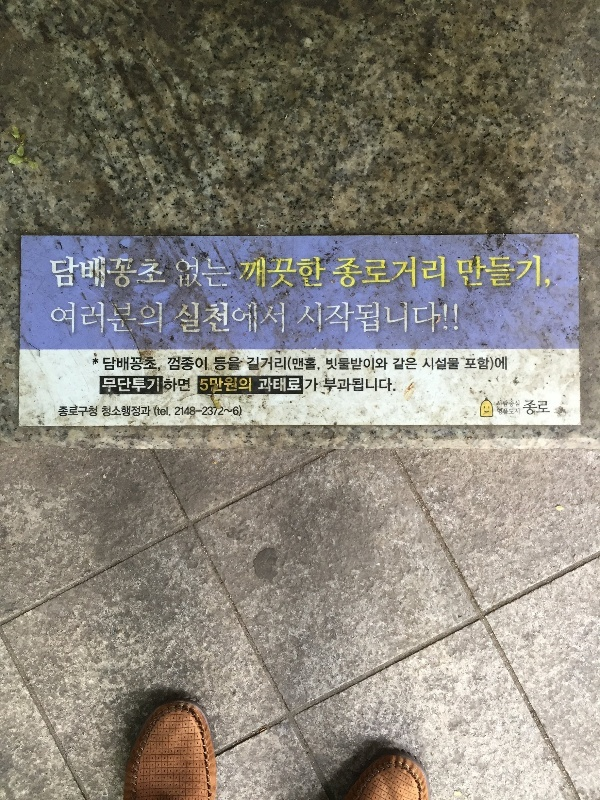text: (65, 299, 80, 337), (81, 299, 96, 337), (97, 299, 112, 337), (113, 299, 128, 337), (129, 299, 144, 337), (145, 299, 160, 337), (465, 254, 480, 291), (481, 254, 496, 291), (497, 254, 512, 291), (513, 254, 528, 291), (529, 254, 544, 291), (193, 299, 208, 336), (209, 299, 224, 336), (225, 299, 240, 336), (241, 299, 256, 336), (257, 299, 272, 336), (177, 254, 192, 290), (193, 254, 208, 290), (209, 254, 224, 290), (241, 254, 256, 290), (257, 254, 272, 290), (273, 254, 288, 290), (289, 254, 304, 290), (305, 254, 320, 290), (337, 254, 352, 290), (353, 254, 368, 290), (369, 254, 384, 290), (385, 254, 400, 290), (401, 254, 416, 290), (417, 254, 432, 290), (49, 255, 64, 290), (65, 255, 80, 290), (81, 255, 96, 290), (97, 255, 112, 290), (113, 255, 128, 290), (129, 255, 144, 290), (145, 255, 160, 290), (305, 301, 320, 336), (321, 301, 336, 336), (337, 301, 352, 336), (353, 301, 368, 336), (369, 301, 384, 336), (385, 301, 400, 336), (401, 301, 416, 336), (417, 301, 432, 336), (433, 301, 448, 336), (51, 299, 64, 337), (433, 254, 446, 290), (273, 299, 285, 336), (182, 299, 192, 336), (449, 301, 459, 336), (456, 254, 464, 291), (225, 254, 233, 290), (337, 377, 352, 394), (353, 377, 368, 394), (369, 377, 384, 394), (145, 357, 161, 372), (113, 378, 128, 394), (129, 378, 144, 394), (145, 378, 160, 394), (209, 377, 224, 393), (225, 377, 240, 393), (273, 377, 288, 393), (529, 400, 544, 416), (97, 357, 112, 372), (113, 357, 128, 372), (129, 357, 144, 372), (177, 357, 192, 372), (257, 356, 272, 371), (289, 357, 304, 372), (305, 357, 320, 372), (305, 378, 320, 393), (225, 357, 241, 371), (466, 356, 480, 372), (545, 254, 551, 291), (323, 377, 336, 394), (321, 254, 327, 290), (161, 255, 167, 290), (193, 357, 207, 372), (337, 357, 352, 371), (353, 357, 368, 371), (369, 357, 384, 371), (401, 357, 416, 371), (433, 357, 448, 371), (481, 356, 494, 372), (259, 377, 272, 393), (289, 377, 302, 393), (273, 356, 286, 371), (177, 378, 190, 393), (65, 405, 80, 418), (81, 405, 96, 418), (385, 377, 396, 394), (164, 378, 176, 393), (113, 405, 128, 417), (129, 405, 144, 417), (177, 405, 192, 417), (193, 405, 208, 417), (209, 405, 224, 417), (225, 405, 240, 417), (241, 377, 252, 393), (102, 378, 112, 394), (213, 357, 224, 371), (449, 357, 460, 371), (497, 356, 507, 371), (326, 357, 336, 371), (247, 356, 256, 371), (168, 357, 176, 372), (497, 408, 512, 416), (102, 405, 112, 417), (161, 405, 171, 417), (201, 377, 208, 393), (499, 400, 512, 408), (393, 357, 400, 371), (545, 400, 551, 416), (426, 357, 432, 371), (161, 299, 163, 337), (174, 254, 176, 290), (145, 405, 151, 417), (154, 405, 160, 417), (59, 405, 64, 418), (513, 400, 520, 408), (513, 408, 520, 416), (525, 400, 528, 416), (93, 357, 96, 372), (385, 357, 388, 371), (239, 254, 240, 290), (495, 356, 496, 371), (417, 357, 418, 371), (97, 405, 98, 418), (175, 405, 176, 417), (241, 405, 242, 417)
